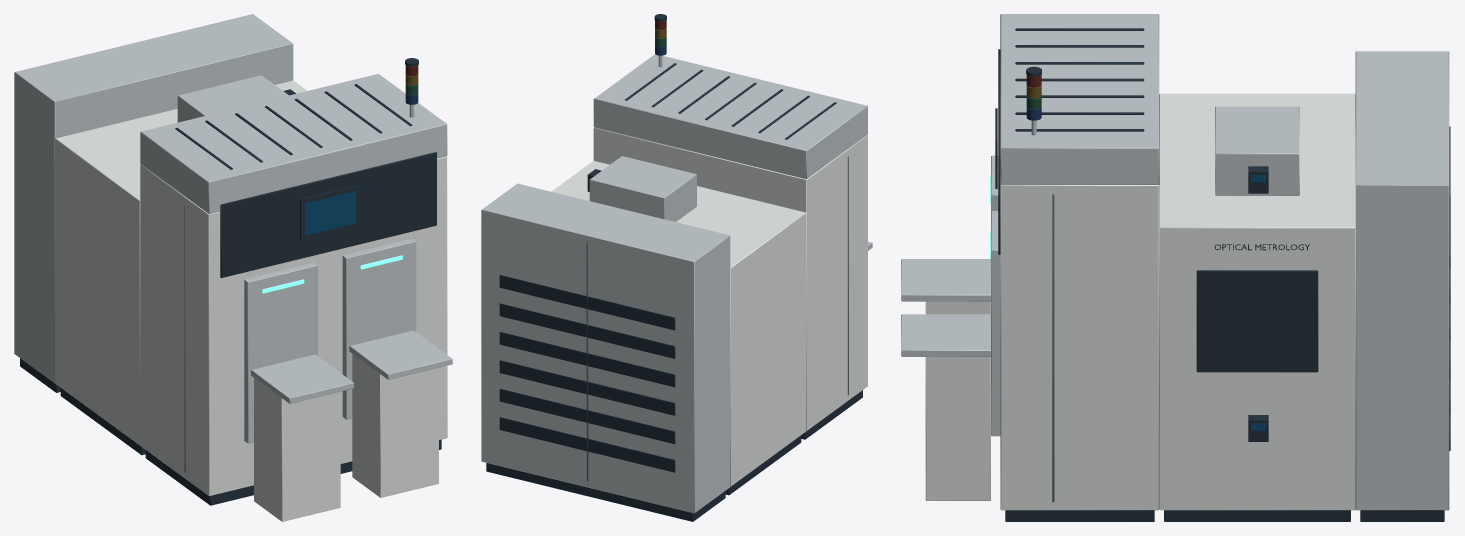
The model's file is fab1-tool-met.glb.
3 renders of one model, left to right at view 1: azimuth 30°, elevation 25°; view 2: azimuth 150°, elevation 25°; view 3: azimuth 270°, elevation 25°, orthographic. The views are drawn at different scales.
Visible parts, largest first — view 1: TOOL_MET_EFEM, TOOL_MET_LoadPorts, TOOL_MET_Rack, TOOL_MET_ModuleBody, TOOL_MET_Source, TOOL_HMI_Screen, TOOL_MET_Operator, TOOL_MET_SignalTower; view 2: TOOL_MET_Rack, TOOL_MET_EFEM, TOOL_MET_ModuleBody, TOOL_MET_Source, TOOL_MET_SignalTower; view 3: TOOL_MET_EFEM, TOOL_MET_ModuleBody, TOOL_MET_Rack, TOOL_MET_LoadPorts, TOOL_MET_Source, TOOL_MET_SignalTower.
Part boxes in pixels (x1,y1,x2,y2): TOOL_MET_EFEM: (140,73,447,505); TOOL_MET_LoadPorts: (244,238,452,521); TOOL_MET_Rack: (14,14,293,392); TOOL_MET_ModuleBody: (55,80,306,455); TOOL_MET_Source: (177,75,288,122); TOOL_HMI_Screen: (305,191,355,235); TOOL_MET_Operator: (300,185,359,240); TOOL_MET_SignalTower: (405,58,418,117); TOOL_MET_Rack: (481,183,730,521); TOOL_MET_EFEM: (593,54,867,439); TOOL_MET_ModuleBody: (551,161,806,495); TOOL_MET_Source: (589,156,696,221); TOOL_MET_SignalTower: (654,14,666,67); TOOL_MET_EFEM: (998,14,1159,521); TOOL_MET_ModuleBody: (1159,93,1355,521); TOOL_MET_Rack: (1355,51,1450,521); TOOL_MET_LoadPorts: (901,155,1000,500); TOOL_MET_Source: (1215,106,1299,195); TOOL_MET_SignalTower: (1026,66,1041,135).
Bounding box in the file's own units: 1.82 × 2.61 × 2.94.
Materials: 3 (1 with a texture image).
